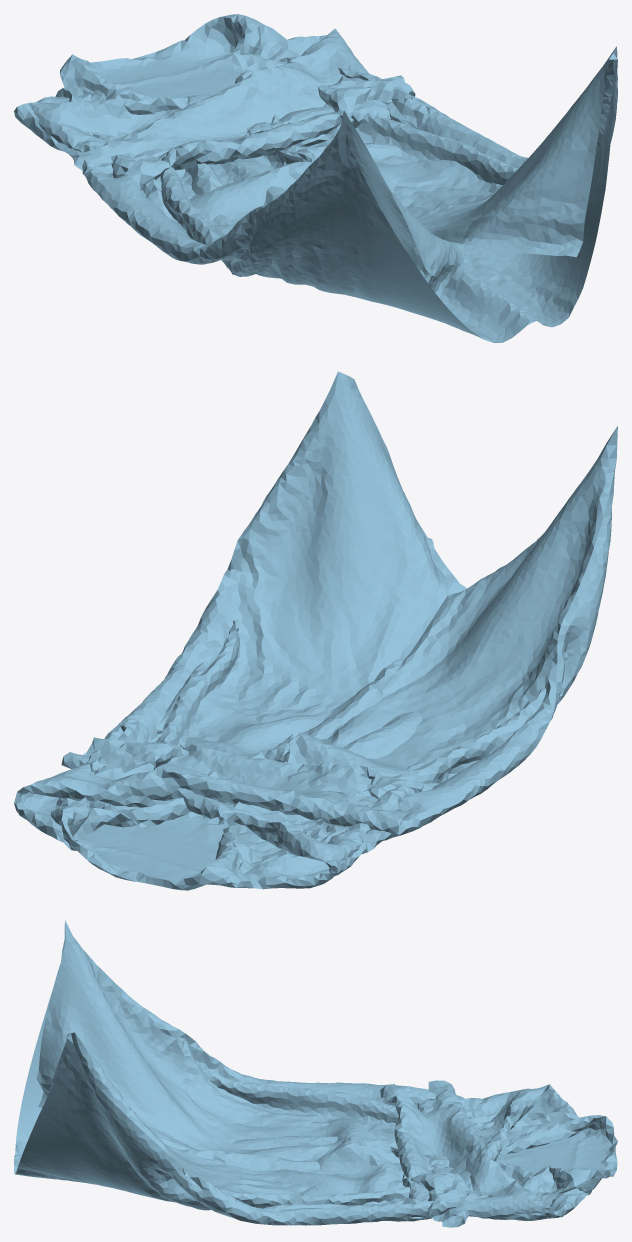
File: frame_04.glb
The picture shows the model from 3 angles, top to bottom: view 1: azimuth 30°, elevation 25°; view 2: azimuth 150°, elevation 25°; view 3: azimuth 270°, elevation 25°; orthographic projection. The views are drawn at different scales.
Parts seen in each view (by area): view 1: frame_04.obj; view 2: frame_04.obj; view 3: frame_04.obj.
Part boxes in pixels (x1=…): frame_04.obj: x1=14, y1=14, x2=617, y2=342; frame_04.obj: x1=14, y1=371, x2=617, y2=890; frame_04.obj: x1=14, y1=920, x2=617, y2=1227.
Size of the model in its own units: 0.913 by 0.5836 by 1.67.
